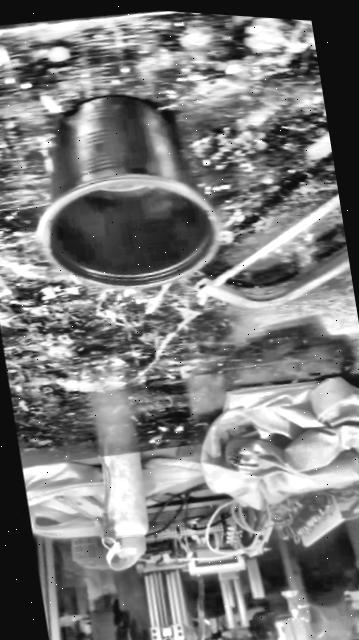pot: (36, 96, 216, 287)
